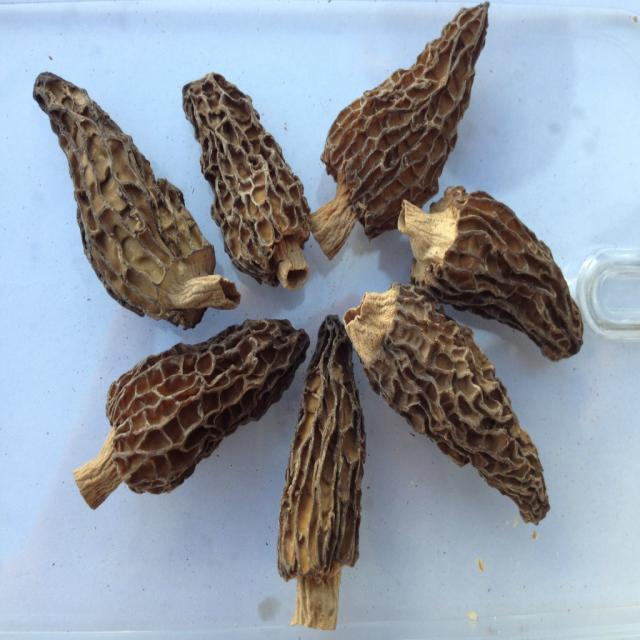Morchella esculenta: (33, 73, 235, 332), (344, 289, 551, 527), (313, 0, 490, 260), (72, 319, 310, 506), (396, 188, 584, 365), (181, 76, 309, 286), (277, 317, 361, 633)
